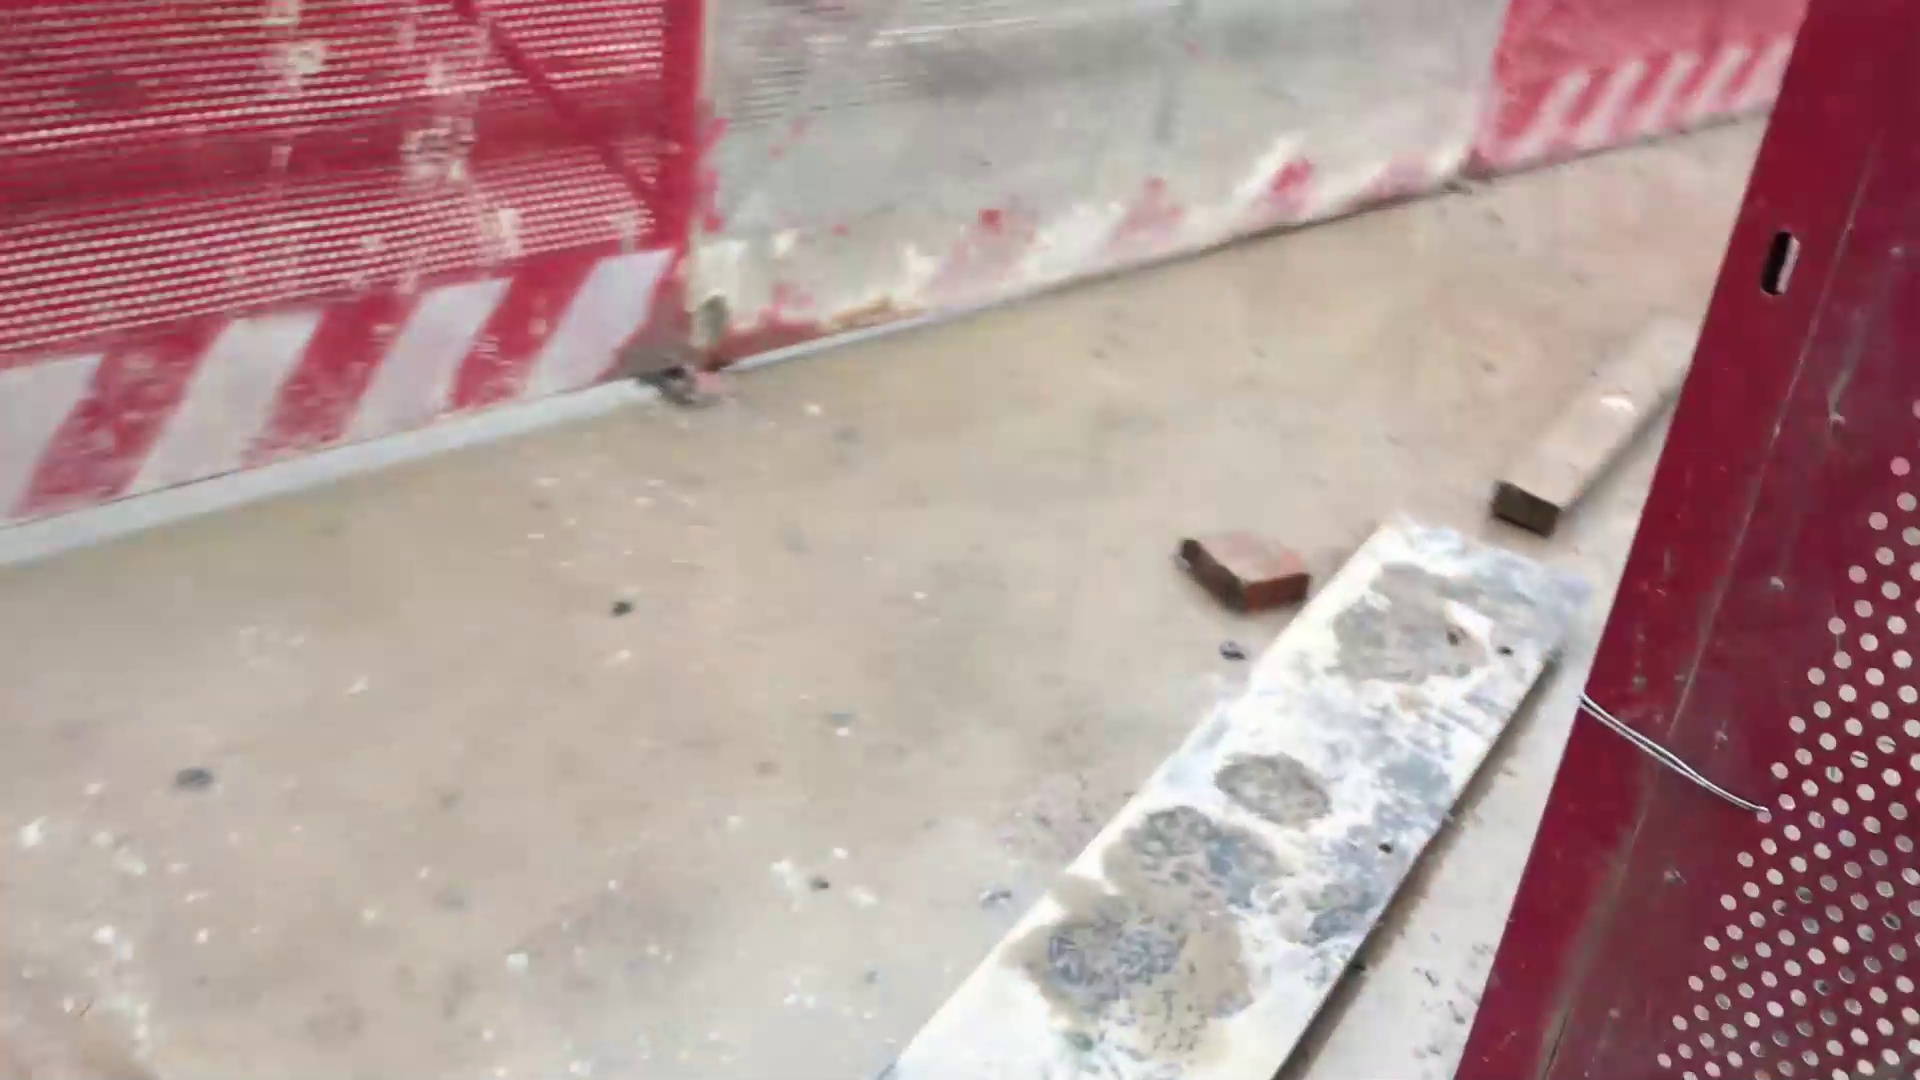fence: (40, 1, 690, 537)
